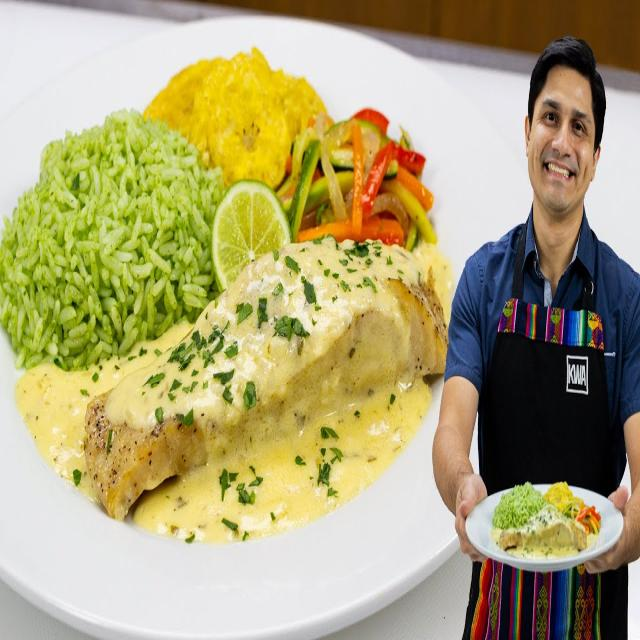arroz: (6, 112, 228, 372)
pescado: (86, 236, 444, 548)
platano: (146, 49, 329, 187)
